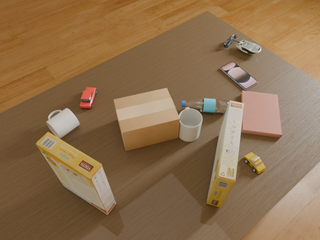book: (241, 91, 282, 138)
bottle: (182, 98, 229, 113)
box: (36, 132, 116, 215), (114, 88, 180, 151), (207, 101, 244, 208)
cup: (46, 108, 79, 139), (178, 108, 202, 142)
mouse: (236, 40, 261, 54)
phone: (220, 62, 258, 90)
toy_car: (243, 152, 265, 174), (80, 87, 97, 108)
